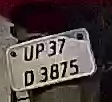3: (37, 64, 50, 85), (48, 41, 59, 59)
5: (67, 57, 82, 79)
7: (58, 37, 69, 57), (60, 61, 69, 81)
8: (50, 62, 60, 82)
D: (23, 69, 34, 89)
P: (36, 43, 45, 62)
U: (21, 43, 34, 64)
